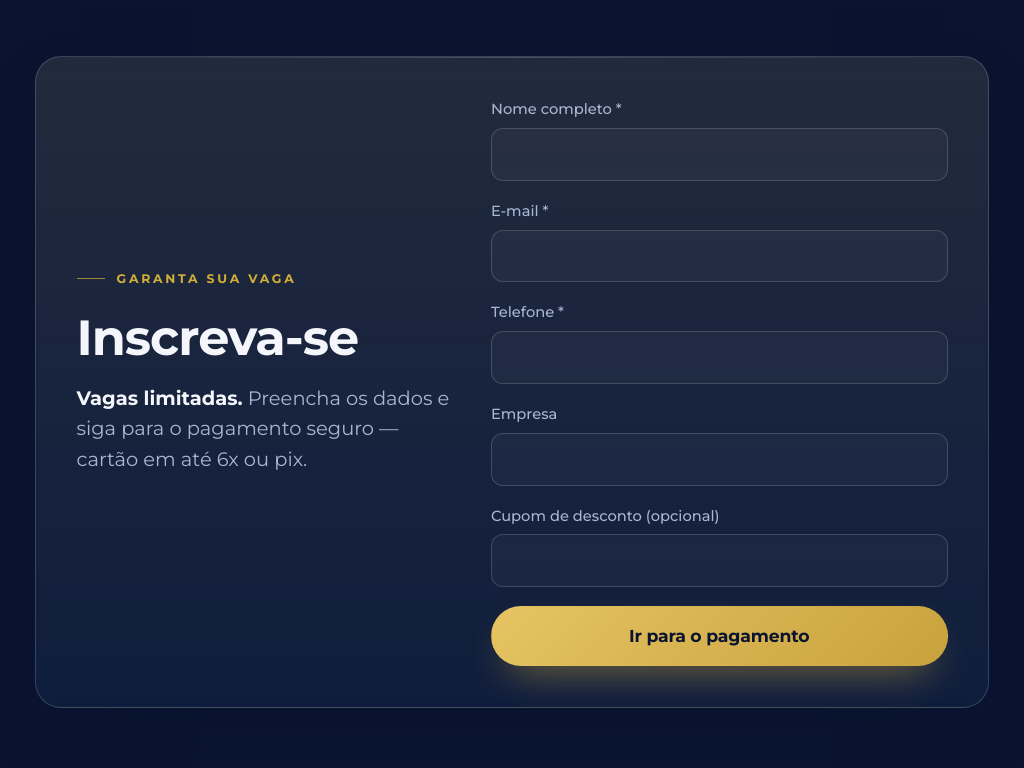
Test: RegistrationForm › validation messages + retained values (Req 10.3) › flags an invalid phone while other fields are valid
Type "Maria Silva" into the field labelled "Nome completo *" at point(719, 154), box [491,128,948,181]
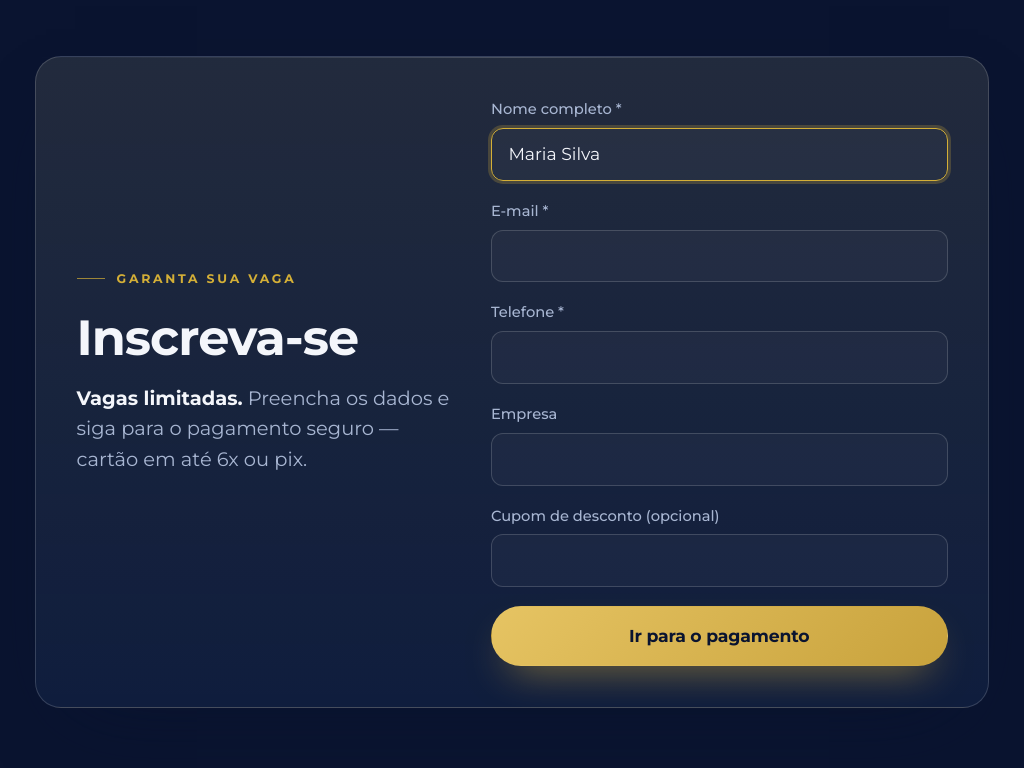
Type "maria@example.com" into the field labelled "E-mail *" at point(719, 256), box [491,230,948,282]
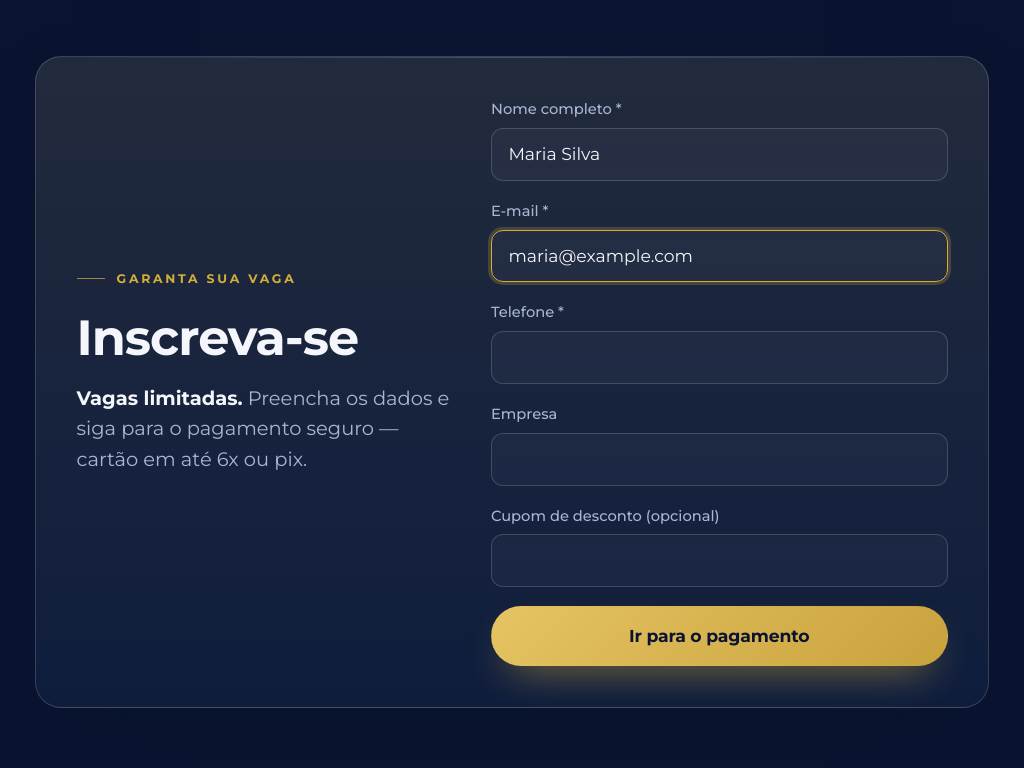
Type "123" into the field labelled "Telefone *" at point(719, 358), box [491,331,948,384]
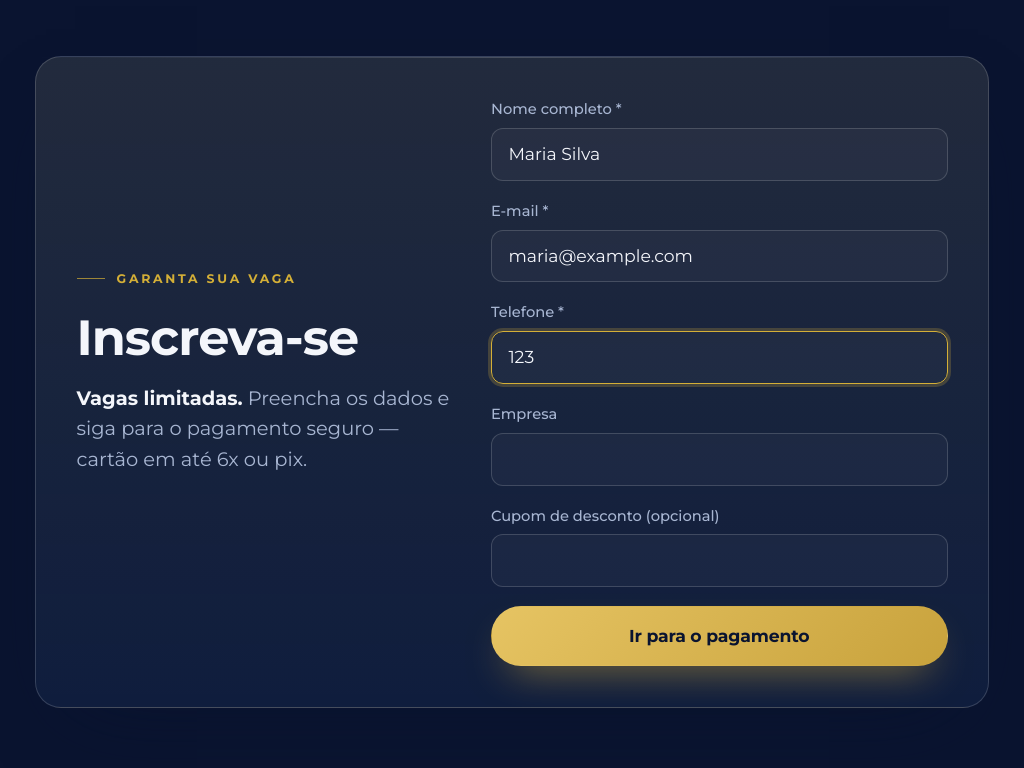
Click the button "Ir para o pagamento" at point(719, 636), box [491,606,948,666]
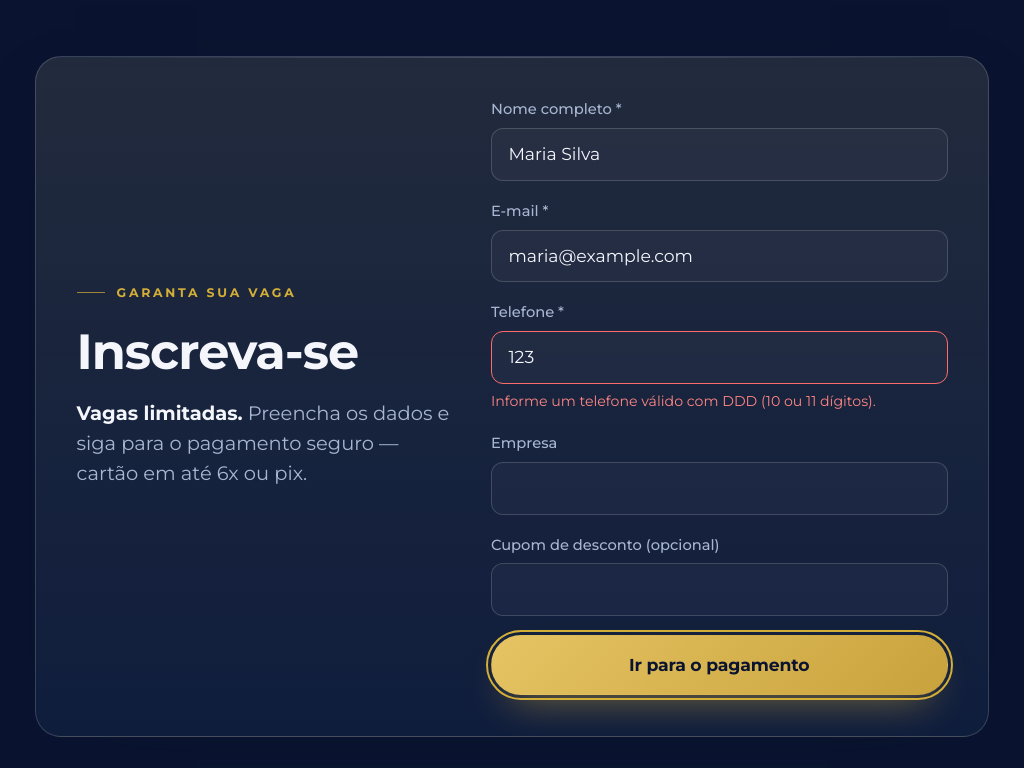
Now the text "Informe um telefone válido com DDD (10 ou 11 dígitos)." is shown, box [491,392,876,410]
